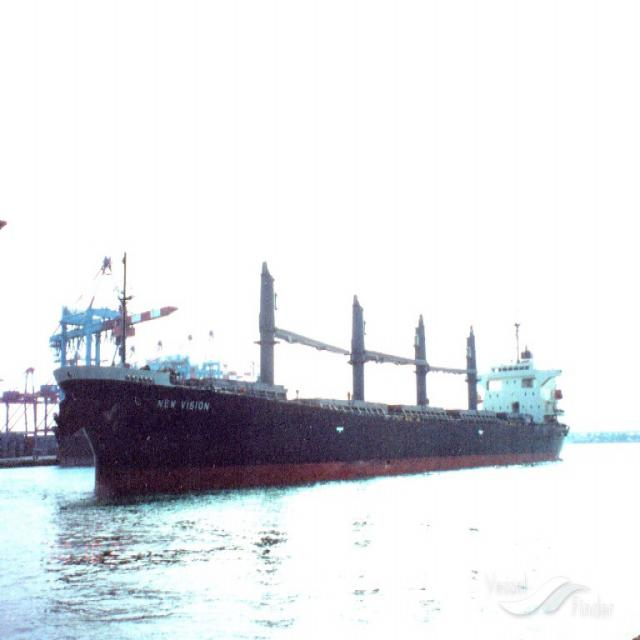OCR: (151, 390, 212, 420)
